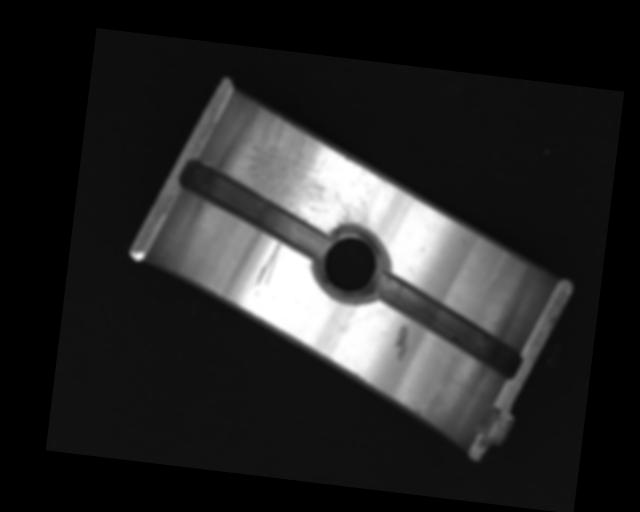bruise: (391, 323, 414, 363)
gap: (361, 270, 531, 379), (172, 158, 333, 257)
hole: (312, 225, 392, 303)
nick: (255, 237, 281, 288)
scratch: (234, 101, 393, 237)
